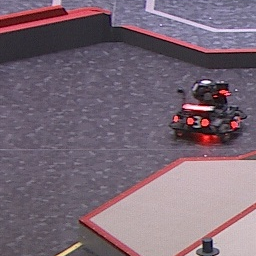Red: (185, 115, 211, 129)
Robot: (171, 81, 245, 141)
